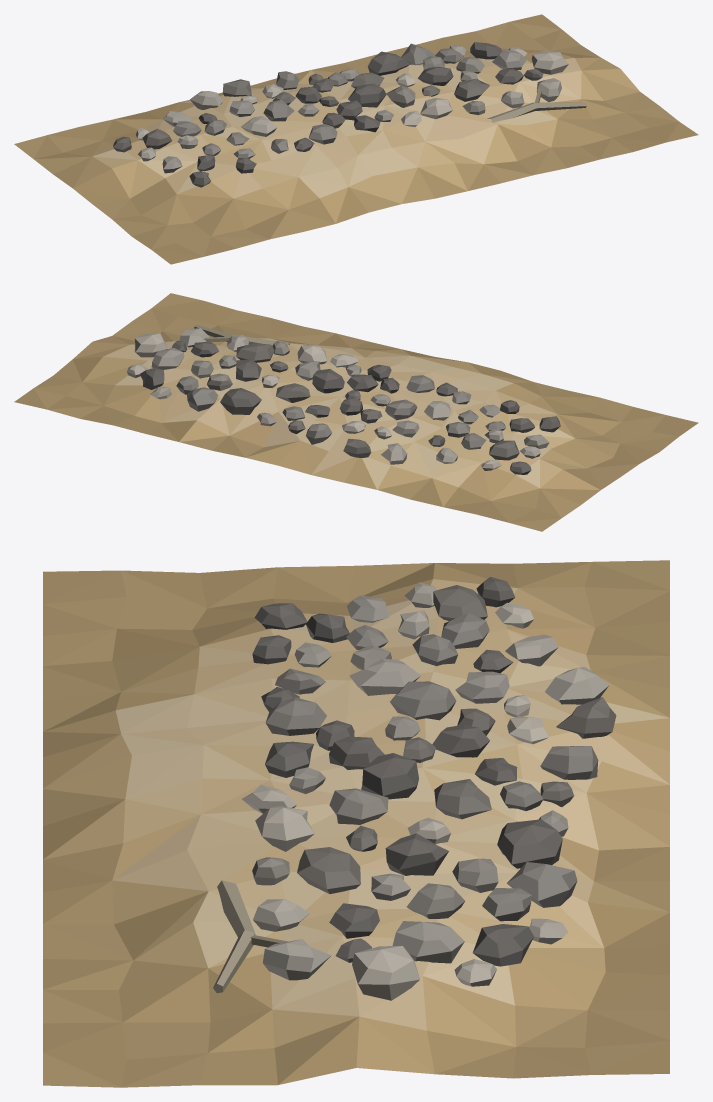
File: river_shoal.glb
3 renders of one model, top to bottom at view 1: azimuth 30°, elevation 25°; view 2: azimuth 150°, elevation 25°; view 3: azimuth 270°, elevation 25°, orthographic. The views are drawn at different scales.
Visible parts, largest first — view 1: river_shoal; view 2: river_shoal; view 3: river_shoal.
Boxes of the visible parts, x1=… form: river_shoal: x1=14, y1=14, x2=698, y2=264; river_shoal: x1=14, y1=293, x2=698, y2=531; river_shoal: x1=43, y1=560, x2=669, y2=1087.
Size of the model in its own units: 8.4 by 0.696 by 4.32.
